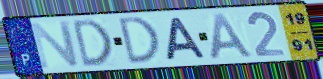2: (246, 10, 289, 58)
A: (209, 12, 257, 61), (165, 16, 209, 62)
D: (117, 15, 163, 67), (71, 17, 115, 70)
N: (28, 19, 82, 71)
